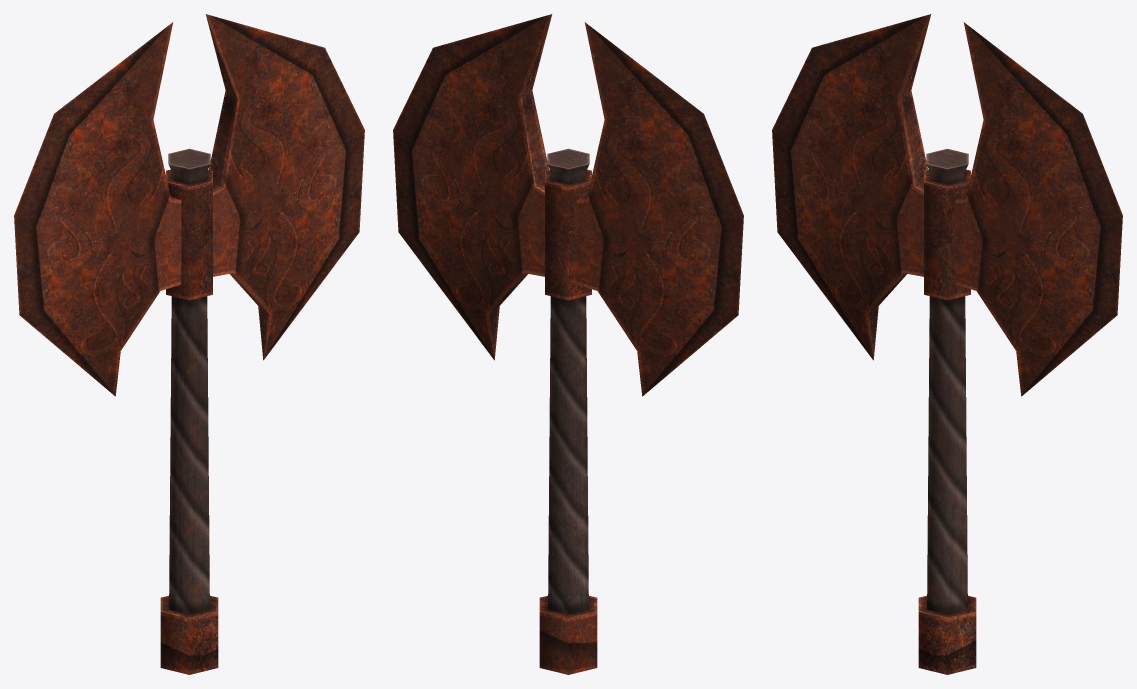
File: axe05_rusty.FBX
3 renders of one model, left to right at view 1: azimuth 30°, elevation 25°; view 2: azimuth 150°, elevation 25°; view 3: azimuth 330°, elevation 25°, orthographic.
Visible parts, largest first — view 1: axe05; view 2: axe05; view 3: axe05.
Part boxes in pixels (<box>): axe05: <box>14,14,364,674</box>; axe05: <box>393,14,743,674</box>; axe05: <box>772,14,1122,674</box>.
Bounding box in the file's own units: 0.8831 × 1.55 × 0.126.
